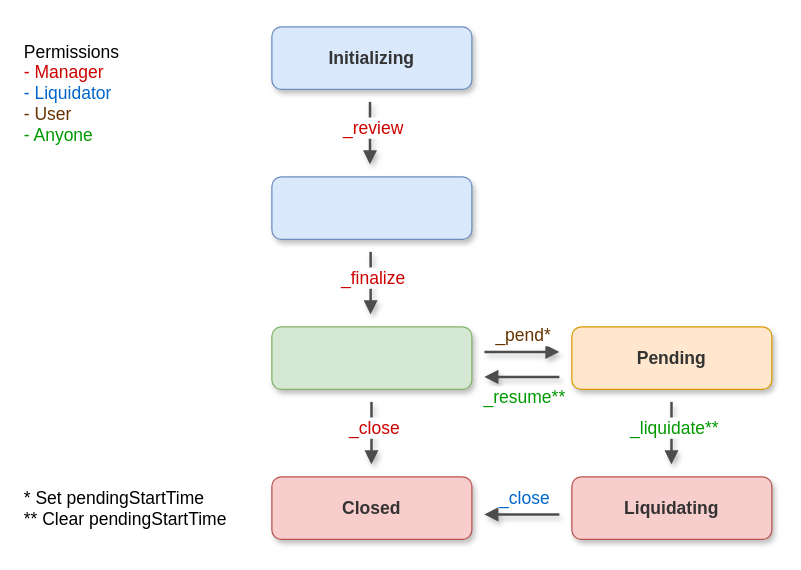
This 801x570 diagram has some shape labels left out. The shapes that lost their labels are listed below. From the top down, each one's centre as x and y in pixels, then its label:
At pixel 372 209: "Reviewing".
At pixel 372 359: "Executing".
